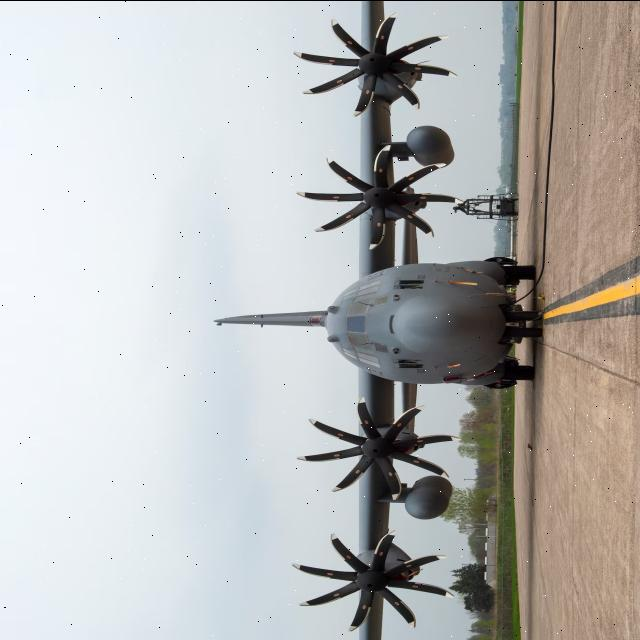C130: (178, 0, 594, 640)
